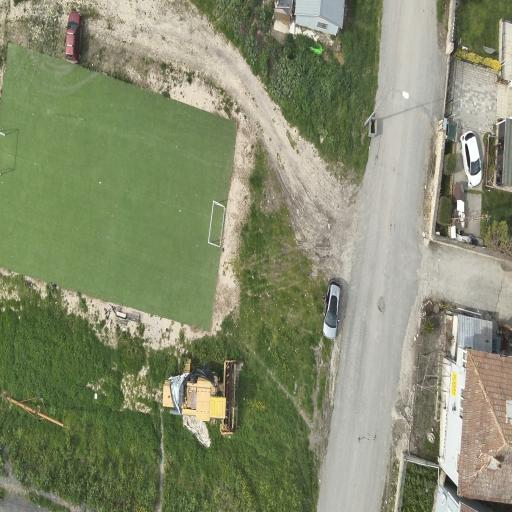car: (460, 130, 482, 187), (323, 280, 341, 338), (66, 10, 82, 62)
harvester: (163, 359, 238, 433)
